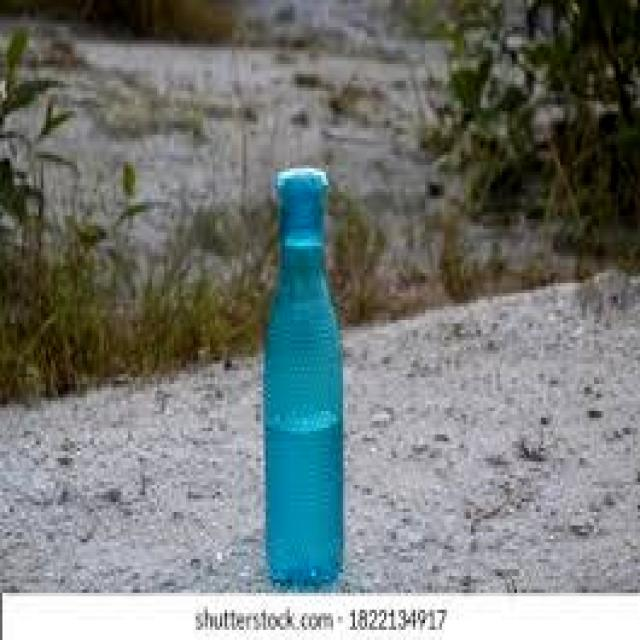half-bottle: (256, 168, 353, 588)
